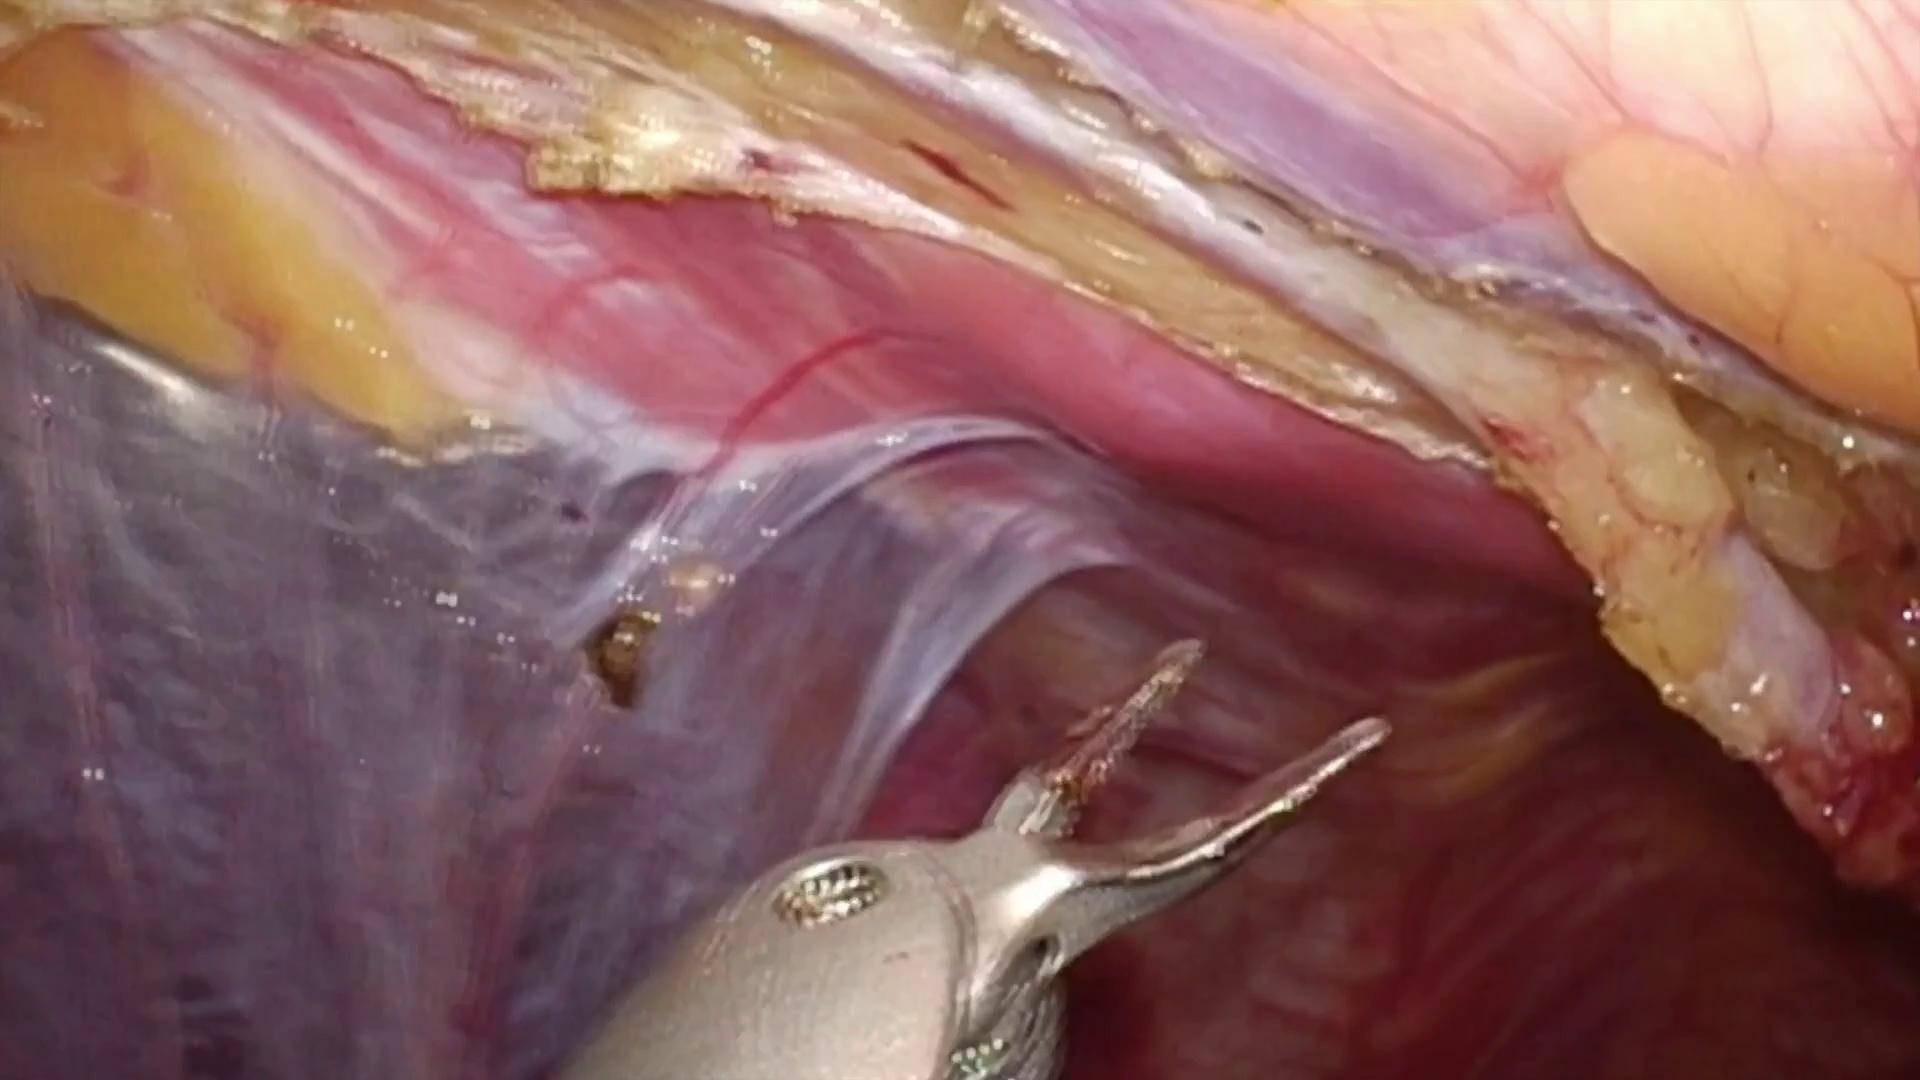Debakey: (898, 599, 1410, 992)
